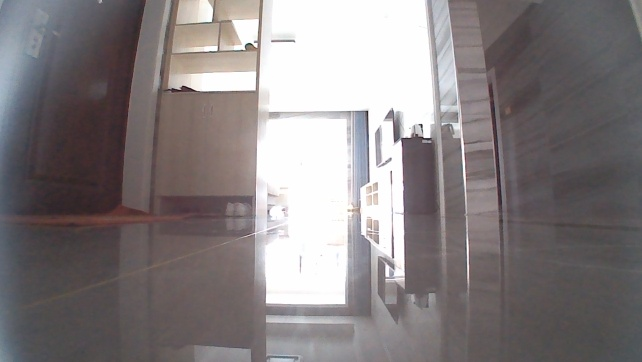blanket: (0, 202, 209, 230)
door_anno: (0, 0, 149, 217)
